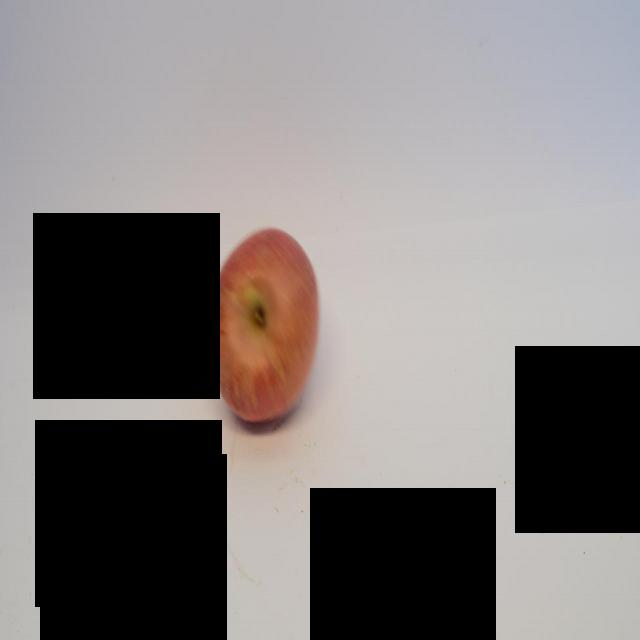apple: (203, 221, 321, 428)
